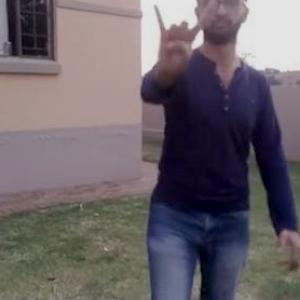takeoff-hand: (147, 0, 219, 82)
